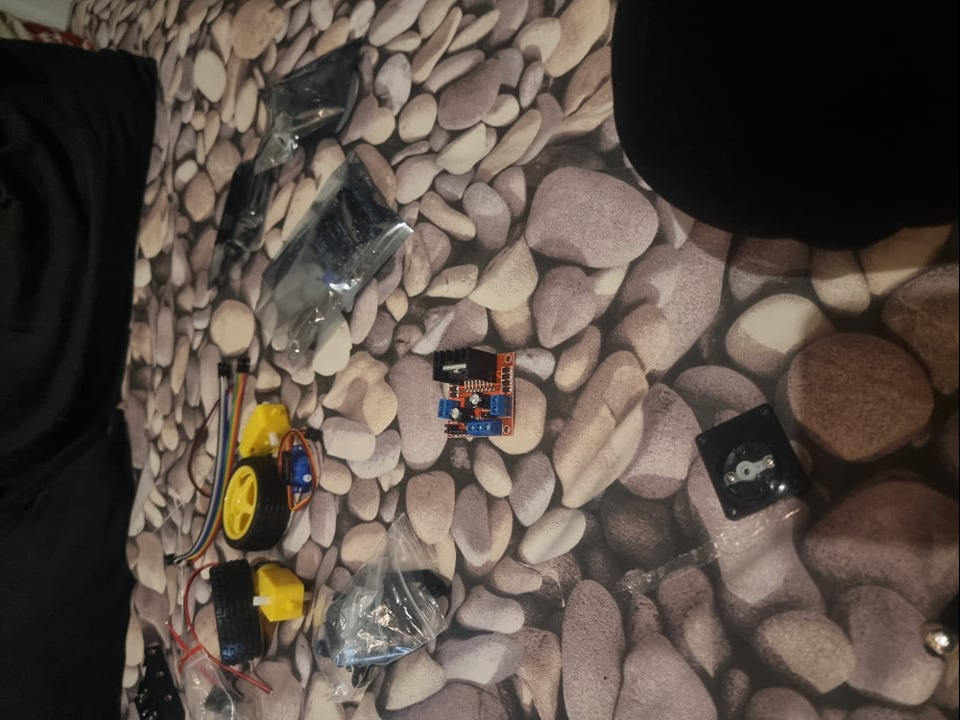BATTERY BOX: (130, 645, 185, 720)
MOTOR: (431, 342, 519, 437)
